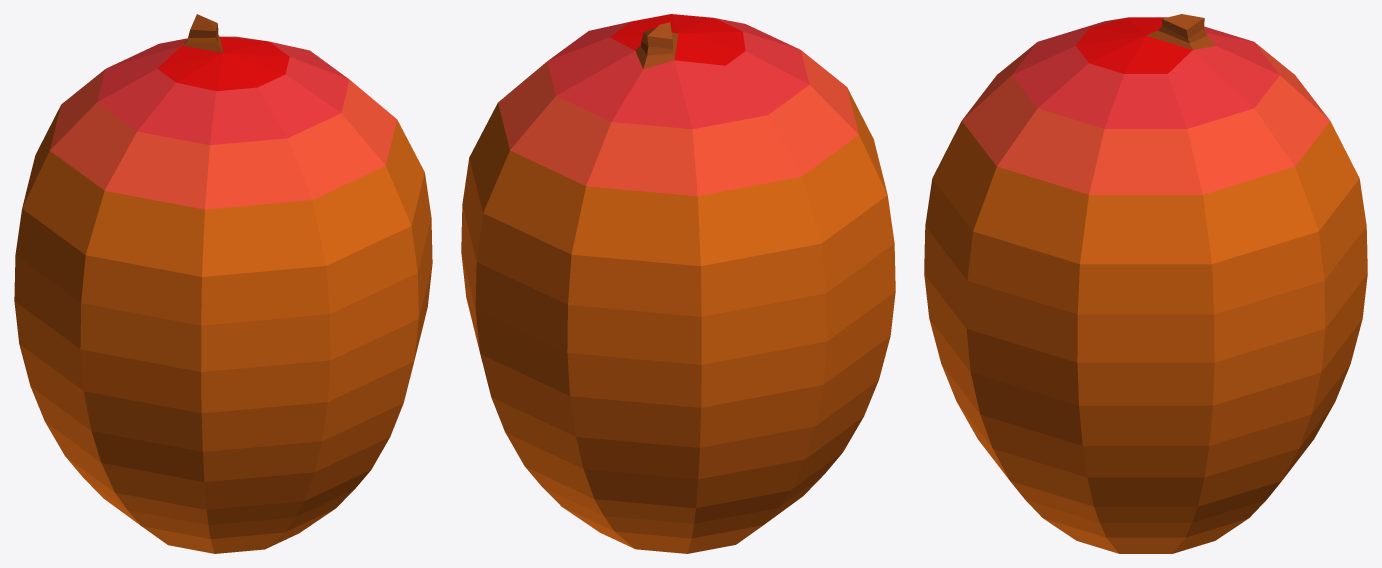
Rendered from GamesE_E03_mango2.0.fbx.
The picture shows the model from 3 angles, left to right: view 1: azimuth 30°, elevation 25°; view 2: azimuth 150°, elevation 25°; view 3: azimuth 270°, elevation 25°; orthographic projection. The views are drawn at different scales.
Visible parts, largest first — view 1: Sphere; view 2: Sphere; view 3: Sphere.
Part boxes in pixels (x1,y1,x2,y2): Sphere: (14, 14, 432, 553); Sphere: (461, 14, 895, 553); Sphere: (924, 14, 1367, 553).
Size of the model in its own units: 298 by 413 by 313.
